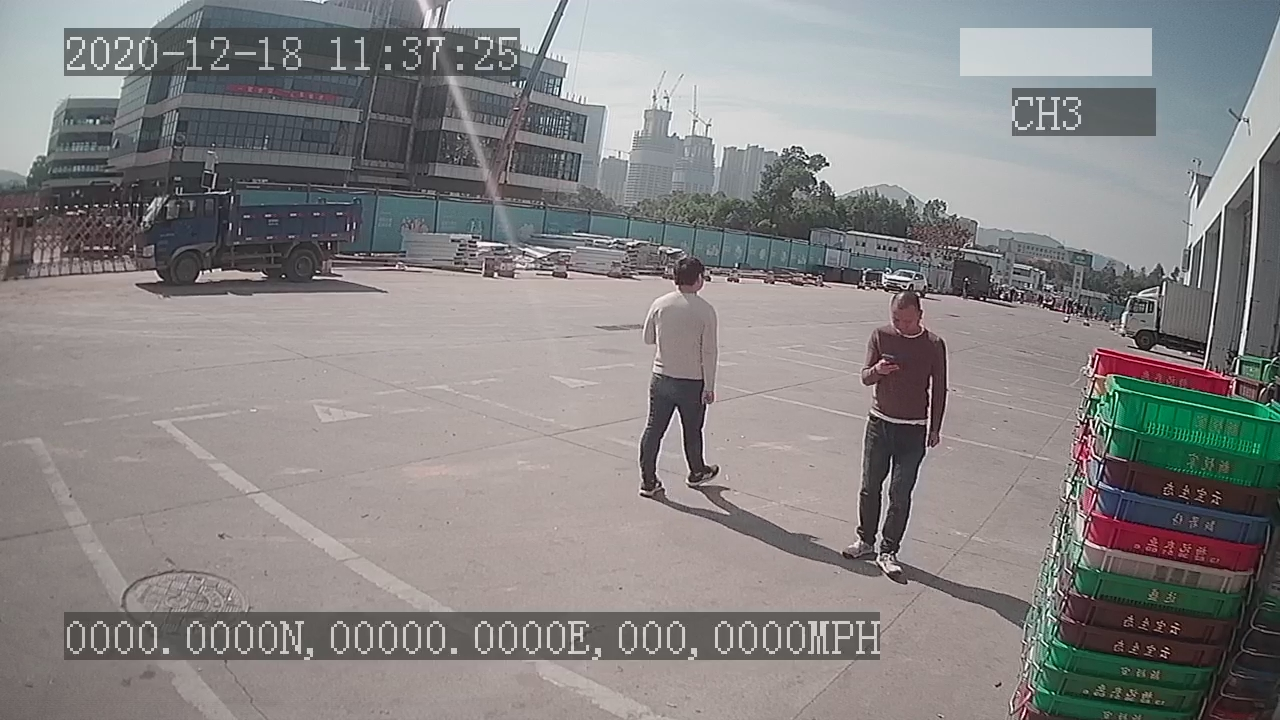person: (840, 289, 954, 578), (635, 250, 730, 500)
